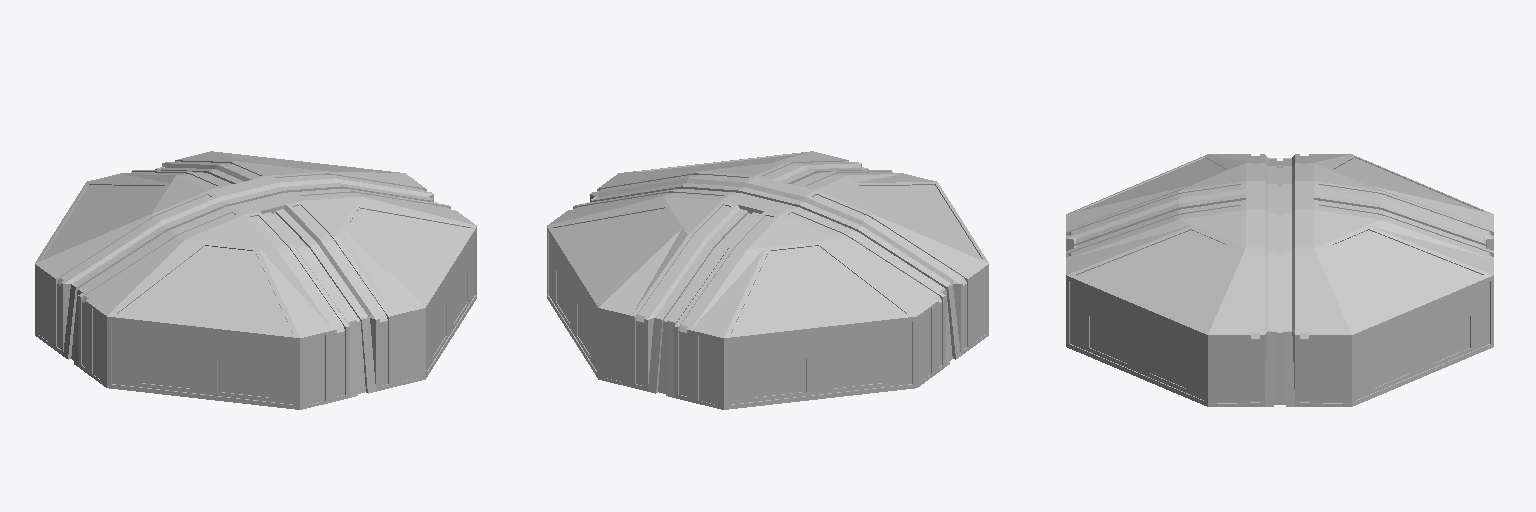
The model's file is Build3.obj.
The picture shows the model from 3 angles: view 1: azimuth 30°, elevation 25°; view 2: azimuth 150°, elevation 25°; view 3: azimuth 270°, elevation 25°; orthographic projection.
Visible parts, largest first — view 1: Material2; view 2: Material2; view 3: Material2.
Boxes of the visible parts, <box> form: Material2: <box>35,151,476,409</box>; Material2: <box>547,151,988,409</box>; Material2: <box>1066,154,1493,406</box>.
Size of the model in its own units: 1081 by 337 by 1081.